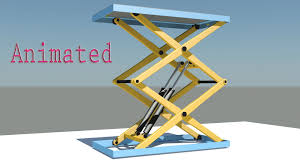Scissor Lift: (78, 3, 231, 159)
